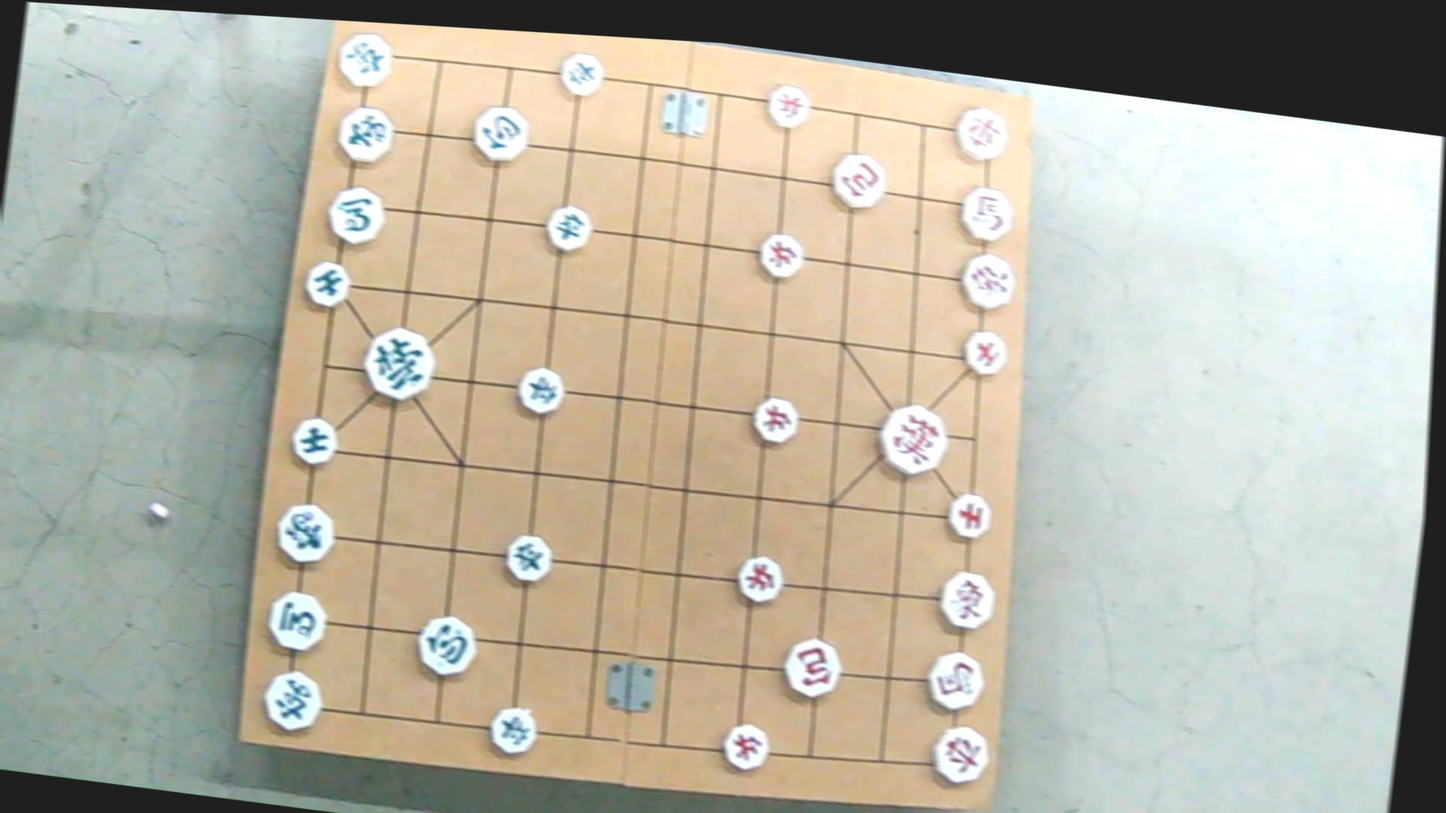cha_green: (258, 666, 332, 735), (333, 29, 397, 91)
cha_red: (927, 721, 991, 782), (953, 102, 1013, 163)
jol_green: (487, 706, 542, 757), (503, 533, 555, 584), (543, 206, 595, 254), (514, 366, 567, 413), (557, 51, 606, 96)
jol_red: (718, 720, 770, 769), (750, 396, 801, 444), (733, 554, 785, 600), (764, 84, 816, 129), (756, 232, 808, 277)
ma_green: (267, 589, 330, 650), (325, 187, 388, 245)
ma_red: (925, 650, 986, 713), (955, 186, 1016, 242)
po_green: (413, 611, 483, 679), (467, 99, 531, 164)
po_red: (779, 635, 844, 696), (828, 150, 889, 206)
sa_green: (299, 258, 352, 307), (287, 415, 337, 465)
sa_red: (945, 492, 995, 538), (959, 327, 1008, 373)
sang_green: (272, 498, 338, 564), (334, 102, 395, 169)
sang_red: (933, 571, 996, 631), (959, 249, 1018, 310)
wang_green: (358, 326, 438, 402)
wang_red: (875, 403, 950, 476)
